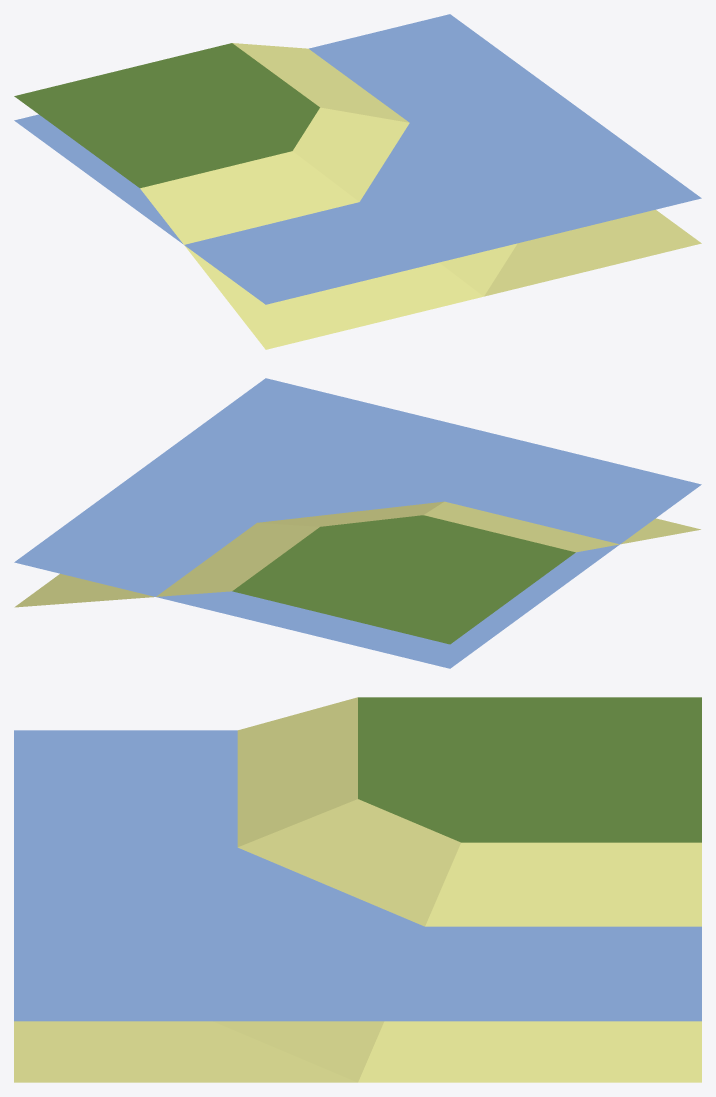
The model's file is water_grass_outer_corner.fbx.
3 renders of one model, top to bottom at view 1: azimuth 30°, elevation 25°; view 2: azimuth 150°, elevation 25°; view 3: azimuth 270°, elevation 25°, orthographic. The views are drawn at different scales.
Parts seen in each view (by area): view 1: water_grass_outer_corner; view 2: water_grass_outer_corner; view 3: water_grass_outer_corner.
Part boxes in pixels (left/top/right/bottom): water_grass_outer_corner: left=14, top=14, right=701, bottom=349; water_grass_outer_corner: left=14, top=378, right=701, bottom=668; water_grass_outer_corner: left=14, top=697, right=701, bottom=1082.
Bounding box in the file's own units: 200 × 30.4 × 200.
